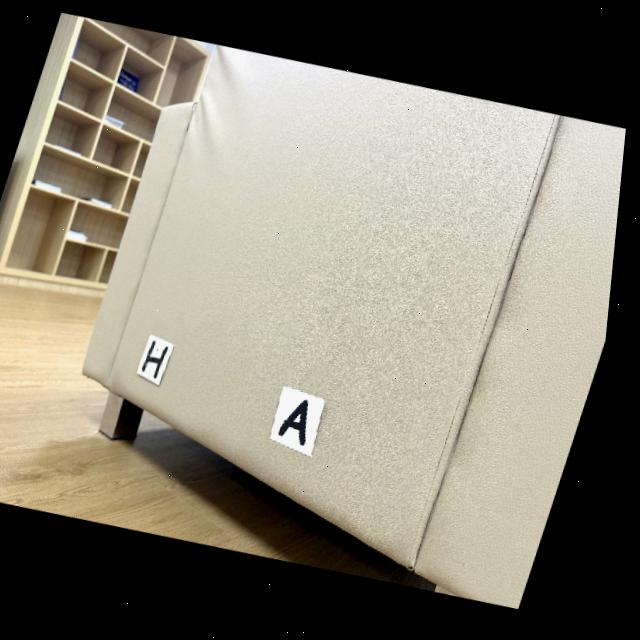A: (287, 403, 317, 448)
H: (149, 341, 175, 379)
